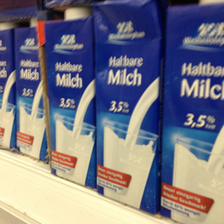milk: (95, 1, 164, 220), (163, 1, 223, 224), (45, 4, 100, 191), (13, 16, 49, 162), (1, 20, 18, 151)
